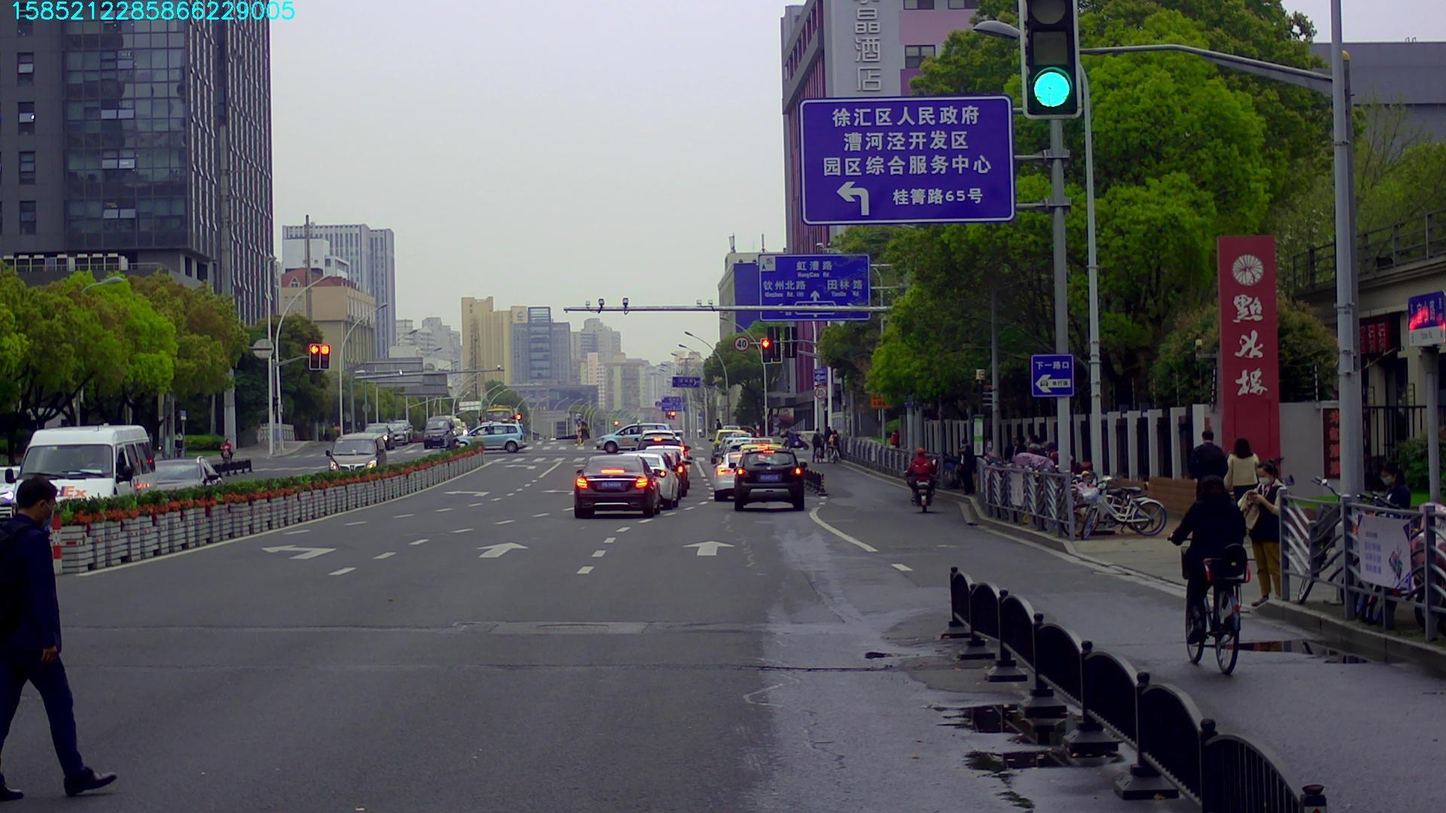green: (1023, 1, 1078, 112)
red: (320, 344, 330, 368), (761, 338, 771, 362), (310, 343, 319, 369)
